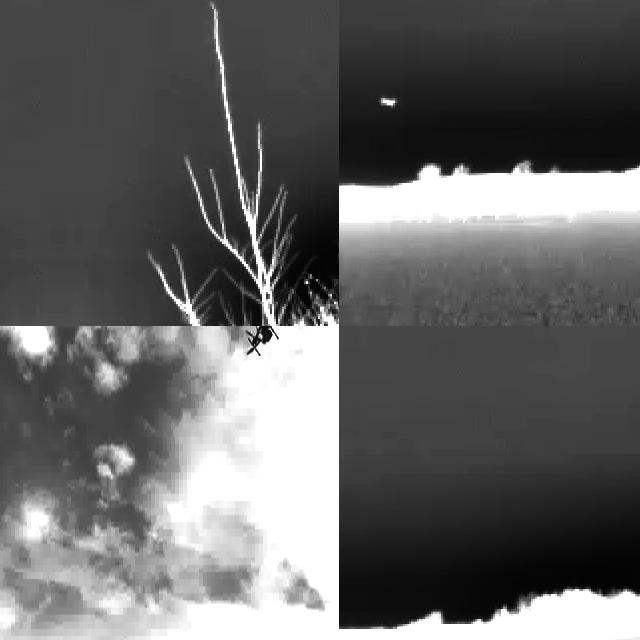1: (368, 87, 408, 124)
drone: (236, 326, 293, 360)
